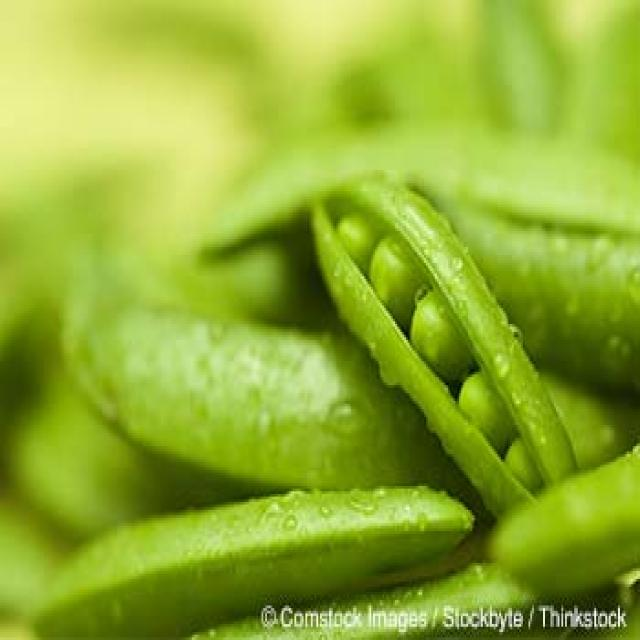Peas: (305, 174, 580, 519), (31, 488, 471, 640)
